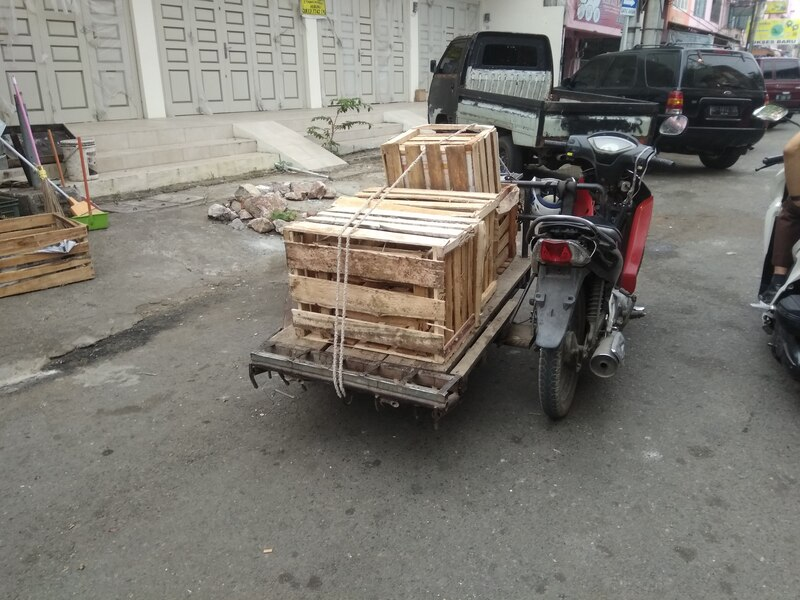becak barang: (244, 116, 671, 455)
